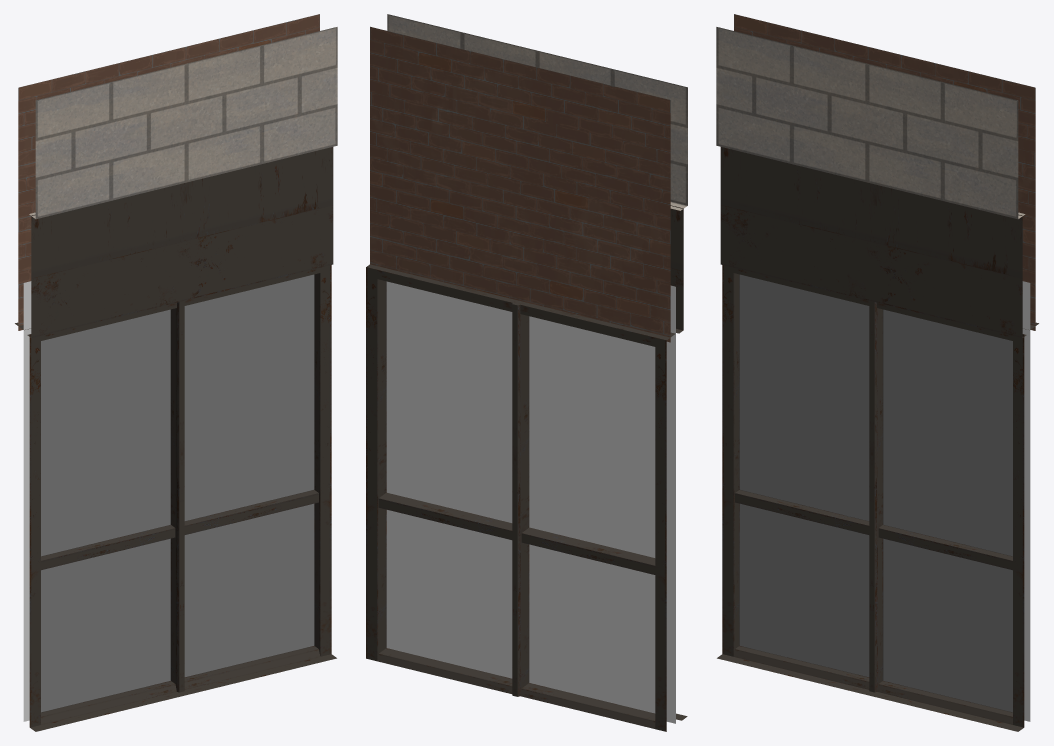
File: WhiteBrick_Window_Center.gltf
3 renders of one model, left to right at view 1: azimuth 30°, elevation 25°; view 2: azimuth 150°, elevation 25°; view 3: azimuth 330°, elevation 25°, orthographic.
Parts seen in each view (by area): view 1: WhiteBrick_Window_Center; view 2: WhiteBrick_Window_Center; view 3: WhiteBrick_Window_Center.
Part boxes in pixels (<box>): WhiteBrick_Window_Center: <box>15,14,337,731</box>; WhiteBrick_Window_Center: <box>366,14,687,731</box>; WhiteBrick_Window_Center: <box>716,14,1038,731</box>.
Bounding box in the file's own units: 2 × 4 × 0.2599.
5 materials, 3 textured.
